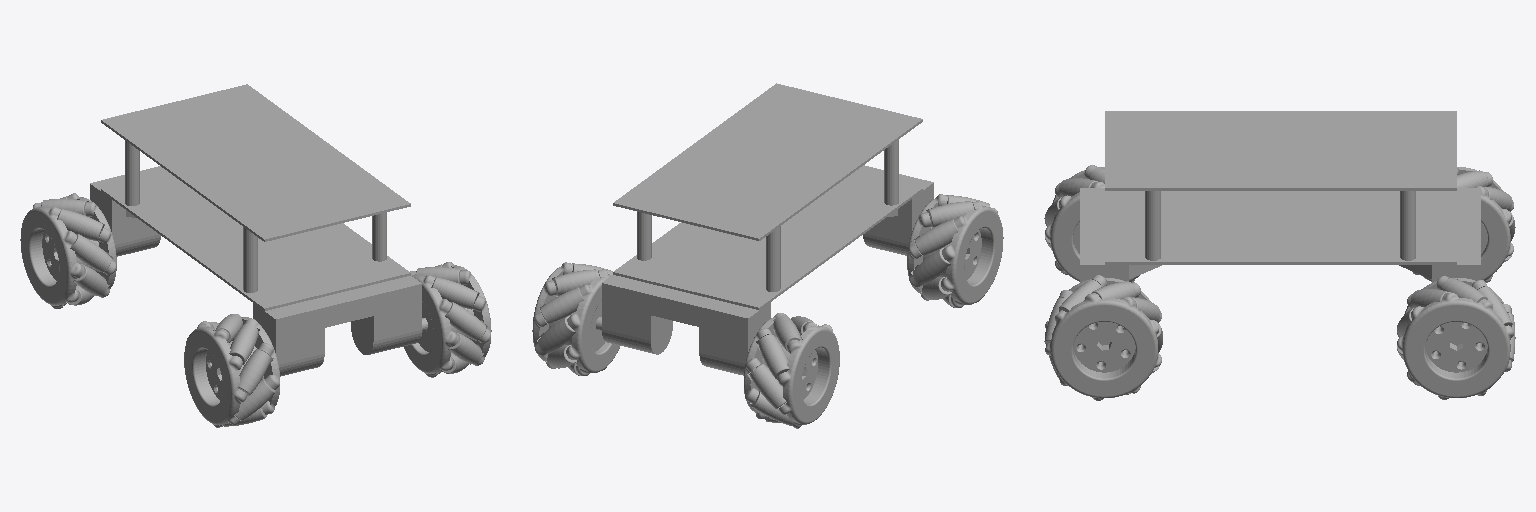
--- What the picture shows (computed from the rendered views, not written in the file) ---
Views: 3 orthographic renders of the robot side by side, from view 1: azimuth 30°, elevation 25°; view 2: azimuth 150°, elevation 25°; view 3: azimuth 270°, elevation 25°.
Model examplo with 42 links and 41 joints (40 continuous, 1 fixed), rooted at base_link, posed every joint at zero.
Visible links, largest first — view 1: chassis_link, front_left_mecanum_link, rear_left_mecanum_link, rear_right_mecanum_link, rear_left_roller_4, rear_right_roller_4, front_left_roller_5, front_left_roller_6, rear_right_roller_3, rear_left_roller_5, rear_left_roller_3, front_left_roller_4 (+1 smaller); view 2: chassis_link, front_left_mecanum_link, rear_left_mecanum_link, front_right_mecanum_link, rear_left_roller_1, front_right_roller_8, front_left_roller_0, front_left_roller_8, front_right_roller_0, rear_left_roller_0, front_right_roller_7, rear_left_roller_2 (+1 smaller); view 3: chassis_link, front_right_mecanum_link, rear_right_mecanum_link, rear_left_mecanum_link, front_left_mecanum_link, front_right_roller_7, rear_right_roller_2.
Link boxes in pixels (x1=…): chassis_link: x1=90, y1=84, x2=427, y2=376; front_left_mecanum_link: x1=20, y1=193, x2=116, y2=308; rear_left_mecanum_link: x1=184, y1=314, x2=279, y2=427; rear_right_mecanum_link: x1=404, y1=262, x2=491, y2=377; rear_left_roller_4: x1=237, y1=349, x2=270, y2=395; rear_right_roller_4: x1=445, y1=302, x2=485, y2=340; front_left_roller_5: x1=70, y1=234, x2=111, y2=271; front_left_roller_6: x1=58, y1=209, x2=102, y2=240; rear_right_roller_3: x1=432, y1=277, x2=477, y2=309; rear_left_roller_5: x1=235, y1=379, x2=274, y2=420; rear_left_roller_3: x1=229, y1=324, x2=258, y2=364; front_left_roller_4: x1=74, y1=264, x2=107, y2=295; chassis_link: x1=596, y1=83, x2=933, y2=375; front_left_mecanum_link: x1=744, y1=313, x2=839, y2=428; rear_left_mecanum_link: x1=907, y1=194, x2=1003, y2=307; front_right_mecanum_link: x1=532, y1=262, x2=619, y2=375; rear_left_roller_1: x1=915, y1=219, x2=959, y2=255; front_right_roller_8: x1=540, y1=287, x2=584, y2=323; front_left_roller_0: x1=749, y1=364, x2=786, y2=408; front_left_roller_8: x1=758, y1=334, x2=789, y2=379; front_right_roller_0: x1=538, y1=316, x2=575, y2=353; rear_left_roller_0: x1=913, y1=248, x2=950, y2=284; front_right_roller_7: x1=553, y1=269, x2=599, y2=295; rear_left_roller_2: x1=928, y1=201, x2=974, y2=227; chassis_link: x1=1080, y1=111, x2=1480, y2=282; front_right_mecanum_link: x1=1397, y1=276, x2=1513, y2=399; rear_right_mecanum_link: x1=1045, y1=275, x2=1161, y2=400; rear_left_mecanum_link: x1=1045, y1=165, x2=1139, y2=282; front_left_mecanum_link: x1=1412, y1=167, x2=1513, y2=282; front_right_roller_7: x1=1441, y1=278, x2=1487, y2=302; rear_right_roller_2: x1=1092, y1=281, x2=1135, y2=299.
Size in the robot's own frame: 0.2661 by 0.3879 by 0.1699 metres.
41 mesh visuals loaded from 4 distinct referenced files (3 binary STL, 1 ASCII STL).

The robot description file, URDF, robot "examplo":
<?xml version="1.0"?>
<!-- =================================================================================== -->
<!-- |    This document was autogenerated by xacro from [local-path]/examplo-ros2/install/robot_description/share/robot_description/urdf/robots/examplo.urdf.xacro | -->
<!-- |    EDITING THIS FILE BY HAND IS NOT RECOMMENDED                                 | -->
<!-- =================================================================================== -->
<robot name="examplo">
  <!-- Specify some standard inertial calculations https://en.wikipedia.org/wiki/List_of_moments_of_inertia -->
  <!-- These make use of xacro's mathematical functionality -->
  <material name="silver">
    <color rgba="0.700 0.700 0.700 1.000" />
  </material>
  <link name="base_link" />
  <link name="chassis_link">
    <inertial>
      <origin rpy="0 0 0" xyz="0 0 -0.0675" />
      <mass value="2.45" />
      <inertia ixx="0.025954687500000004" ixy="0.0" ixz="0.0" iyy="0.0103359375" iyz="0.0" izz="0.028848750000000003" />
    </inertial>
    <visual>
      <origin rpy="0 0 0" xyz="0 0 0" />
      <geometry>
        <mesh filename="package://robot_description/meshes/chassis.stl" scale="0.001 0.001 0.001" />
      </geometry>
      <material name="silver" />
    </visual>
    <collision>
      <origin rpy="0 0 0" xyz="0 0 -0.0675" />
      <geometry>
        <box size="0.18 0.33 0.135" />
      </geometry>
    </collision>
  </link>
  <gazebo reference="chassis">
    <material>Gazebo/Blue</material>
  </gazebo>
  <joint name="chassis_joint" type="fixed">
    <parent link="base_link" />
    <child link="chassis_link" />
    <origin xyz="0 0 0" />
  </joint>
  <link name="front_right_mecanum_link">
    <inertial>
      <origin rpy="0 1.5707963267948966 0" xyz="0 0 0" />
      <mass value="0.136" />
      <inertia ixx="7.117696e-05" ixy="0.0" ixz="0.0" iyy="7.117696e-05" iyz="0.0" izz="0.00010236992" />
    </inertial>
    <visual>
      <origin rpy="0 0 0" xyz="0 0 0" />
      <geometry>
        <mesh filename="package://robot_description/meshes/mec_hub_1.stl" scale="0.001 0.001 0.001" />
      </geometry>
      <material name="silver" />
    </visual>
    <collision>
      <origin rpy="0 0 0" xyz="0 0 0" />
      <geometry>
        <cylinder length="0.042" radius="0.0388" />
      </geometry>
    </collision>
  </link>
  <joint name="front_right_mecanum_joint" type="continuous">
    <origin rpy="0 1.5707963267948966 0" xyz="0.108 0.145 -0.121" />
    <parent link="chassis_link" />
    <child link="front_right_mecanum_link" />
    <axis xyz="0.0 0.0 -1.0" />
  </joint>
  <link name="front_right_roller_0">
    <visual>
      <origin rpy="0 0 0" xyz="0 0 0" />
      <geometry>
        <mesh filename="package://robot_description/meshes/roller.stl" scale="0.001 0.001 0.001" />
      </geometry>
      <material name="silver" />
    </visual>
    <collision>
      <origin rpy="0 0 0" xyz="0 0 0" />
      <geometry>
        <sphere radius="0.0097" />
      </geometry>
    </collision>
    <collision>
      <origin rpy="0 0 0" xyz="0 0 0.00792" />
      <geometry>
        <sphere radius="0.00952" />
      </geometry>
    </collision>
    <collision>
      <origin rpy="0 0 0" xyz="0 0 -0.00792" />
      <geometry>
        <sphere radius="0.00952" />
      </geometry>
    </collision>
    <collision>
      <origin rpy="0 0 0" xyz="0 0 0.01584" />
      <geometry>
        <sphere radius="0.008985" />
      </geometry>
    </collision>
    <collision>
      <origin rpy="0 0 0" xyz="0 0 -0.01584" />
      <geometry>
        <sphere radius="0.008985" />
      </geometry>
    </collision>
  </link>
  <joint name="front_right_roller_0_joint" type="continuous">
    <origin rpy="0.0 0.7853981633974483 0" xyz="0.0 0.0388 0" />
    <parent link="front_right_mecanum_link" />
    <child link="front_right_roller_0" />
    <axis xyz="0.0 0.0 1.0" />
  </joint>
  <link name="front_right_roller_1">
    <visual>
      <origin rpy="0 0 0" xyz="0 0 0" />
      <geometry>
        <mesh filename="package://robot_description/meshes/roller.stl" scale="0.001 0.001 0.001" />
      </geometry>
      <material name="silver" />
    </visual>
    <collision>
      <origin rpy="0 0 0" xyz="0 0 0" />
      <geometry>
        <sphere radius="0.0097" />
      </geometry>
    </collision>
    <collision>
      <origin rpy="0 0 0" xyz="0 0 0.00792" />
      <geometry>
        <sphere radius="0.00952" />
      </geometry>
    </collision>
    <collision>
      <origin rpy="0 0 0" xyz="0 0 -0.00792" />
      <geometry>
        <sphere radius="0.00952" />
      </geometry>
    </collision>
    <collision>
      <origin rpy="0 0 0" xyz="0 0 0.01584" />
      <geometry>
        <sphere radius="0.008985" />
      </geometry>
    </collision>
    <collision>
      <origin rpy="0 0 0" xyz="0 0 -0.01584" />
      <geometry>
        <sphere radius="0.008985" />
      </geometry>
    </collision>
  </link>
  <joint name="front_right_roller_1_joint" type="continuous">
    <origin rpy="0.5048442081024438 0.6016498987064663 0" xyz="0.024940159255837722 0.02972252439301635 0" />
    <parent link="front_right_mecanum_link" />
    <child link="front_right_roller_1" />
    <axis xyz="0.0 0.0 1.0" />
  </joint>
  <link name="front_right_roller_2">
    <visual>
      <origin rpy="0 0 0" xyz="0 0 0" />
      <geometry>
        <mesh filename="package://robot_description/meshes/roller.stl" scale="0.001 0.001 0.001" />
      </geometry>
      <material name="silver" />
    </visual>
    <collision>
      <origin rpy="0 0 0" xyz="0 0 0" />
      <geometry>
        <sphere radius="0.0097" />
      </geometry>
    </collision>
    <collision>
      <origin rpy="0 0 0" xyz="0 0 0.00792" />
      <geometry>
        <sphere radius="0.00952" />
      </geometry>
    </collision>
    <collision>
      <origin rpy="0 0 0" xyz="0 0 -0.00792" />
      <geometry>
        <sphere radius="0.00952" />
      </geometry>
    </collision>
    <collision>
      <origin rpy="0 0 0" xyz="0 0 0.01584" />
      <geometry>
        <sphere radius="0.008985" />
      </geometry>
    </collision>
    <collision>
      <origin rpy="0 0 0" xyz="0 0 -0.01584" />
      <geometry>
        <sphere radius="0.008985" />
      </geometry>
    </collision>
  </link>
  <joint name="front_right_roller_2_joint" type="continuous">
    <origin rpy="0.7734662005153561 0.13638295981692095 0" xyz="0.038210540816873674 0.0067375492934769006 0" />
    <parent link="front_right_mecanum_link" />
    <child link="front_right_roller_2" />
    <axis xyz="0.0 0.0 1.0" />
  </joint>
  <link name="front_right_roller_3">
    <visual>
      <origin rpy="0 0 0" xyz="0 0 0" />
      <geometry>
        <mesh filename="package://robot_description/meshes/roller.stl" scale="0.001 0.001 0.001" />
      </geometry>
      <material name="silver" />
    </visual>
    <collision>
      <origin rpy="0 0 0" xyz="0 0 0" />
      <geometry>
        <sphere radius="0.0097" />
      </geometry>
    </collision>
    <collision>
      <origin rpy="0 0 0" xyz="0 0 0.00792" />
      <geometry>
        <sphere radius="0.00952" />
      </geometry>
    </collision>
    <collision>
      <origin rpy="0 0 0" xyz="0 0 -0.00792" />
      <geometry>
        <sphere radius="0.00952" />
      </geometry>
    </collision>
    <collision>
      <origin rpy="0 0 0" xyz="0 0 0.01584" />
      <geometry>
        <sphere radius="0.008985" />
      </geometry>
    </collision>
    <collision>
      <origin rpy="0 0 0" xyz="0 0 -0.01584" />
      <geometry>
        <sphere radius="0.008985" />
      </geometry>
    </collision>
  </link>
  <joint name="front_right_roller_3_joint" type="continuous">
    <origin rpy="0.6801747615878317 -0.392699081698724 0" xyz="0.03360178566683622 -0.019399999999999994 0" />
    <parent link="front_right_mecanum_link" />
    <child link="front_right_roller_3" />
    <axis xyz="0.0 0.0 1.0" />
  </joint>
  <link name="front_right_roller_4">
    <visual>
      <origin rpy="0 0 0" xyz="0 0 0" />
      <geometry>
        <mesh filename="package://robot_description/meshes/roller.stl" scale="0.001 0.001 0.001" />
      </geometry>
      <material name="silver" />
    </visual>
    <collision>
      <origin rpy="0 0 0" xyz="0 0 0" />
      <geometry>
        <sphere radius="0.0097" />
      </geometry>
    </collision>
    <collision>
      <origin rpy="0 0 0" xyz="0 0 0.00792" />
      <geometry>
        <sphere radius="0.00952" />
      </geometry>
    </collision>
    <collision>
      <origin rpy="0 0 0" xyz="0 0 -0.00792" />
      <geometry>
        <sphere radius="0.00952" />
      </geometry>
    </collision>
    <collision>
      <origin rpy="0 0 0" xyz="0 0 0.01584" />
      <geometry>
        <sphere radius="0.008985" />
      </geometry>
    </collision>
    <collision>
      <origin rpy="0 0 0" xyz="0 0 -0.01584" />
      <geometry>
        <sphere radius="0.008985" />
      </geometry>
    </collision>
  </link>
  <joint name="front_right_roller_4_joint" type="continuous">
    <origin rpy="0.26862199241291235 -0.7380328585233872 0" xyz="0.013270381561035953 -0.03646007368649325 0" />
    <parent link="front_right_mecanum_link" />
    <child link="front_right_roller_4" />
    <axis xyz="0.0 0.0 1.0" />
  </joint>
  <link name="front_right_roller_5">
    <visual>
      <origin rpy="0 0 0" xyz="0 0 0" />
      <geometry>
        <mesh filename="package://robot_description/meshes/roller.stl" scale="0.001 0.001 0.001" />
      </geometry>
      <material name="silver" />
    </visual>
    <collision>
      <origin rpy="0 0 0" xyz="0 0 0" />
      <geometry>
        <sphere radius="0.0097" />
      </geometry>
    </collision>
    <collision>
      <origin rpy="0 0 0" xyz="0 0 0.00792" />
      <geometry>
        <sphere radius="0.00952" />
      </geometry>
    </collision>
    <collision>
      <origin rpy="0 0 0" xyz="0 0 -0.00792" />
      <geometry>
        <sphere radius="0.00952" />
      </geometry>
    </collision>
    <collision>
      <origin rpy="0 0 0" xyz="0 0 0.01584" />
      <geometry>
        <sphere radius="0.008985" />
      </geometry>
    </collision>
    <collision>
      <origin rpy="0 0 0" xyz="0 0 -0.01584" />
      <geometry>
        <sphere radius="0.008985" />
      </geometry>
    </collision>
  </link>
  <joint name="front_right_roller_5_joint" type="continuous">
    <origin rpy="-0.2686219924129122 -0.7380328585233873 0" xyz="-0.013270381561035945 -0.03646007368649325 0" />
    <parent link="front_right_mecanum_link" />
    <child link="front_right_roller_5" />
    <axis xyz="0.0 0.0 1.0" />
  </joint>
  <link name="front_right_roller_6">
    <visual>
      <origin rpy="0 0 0" xyz="0 0 0" />
      <geometry>
        <mesh filename="package://robot_description/meshes/roller.stl" scale="0.001 0.001 0.001" />
      </geometry>
      <material name="silver" />
    </visual>
    <collision>
      <origin rpy="0 0 0" xyz="0 0 0" />
      <geometry>
        <sphere radius="0.0097" />
      </geometry>
    </collision>
    <collision>
      <origin rpy="0 0 0" xyz="0 0 0.00792" />
      <geometry>
        <sphere radius="0.00952" />
      </geometry>
    </collision>
    <collision>
      <origin rpy="0 0 0" xyz="0 0 -0.00792" />
      <geometry>
        <sphere radius="0.00952" />
      </geometry>
    </collision>
    <collision>
      <origin rpy="0 0 0" xyz="0 0 0.01584" />
      <geometry>
        <sphere radius="0.008985" />
      </geometry>
    </collision>
    <collision>
      <origin rpy="0 0 0" xyz="0 0 -0.01584" />
      <geometry>
        <sphere radius="0.008985" />
      </geometry>
    </collision>
  </link>
  <joint name="front_right_roller_6_joint" type="continuous">
    <origin rpy="-0.6801747615878314 -0.3926990816987245 0" xyz="-0.03360178566683621 -0.019400000000000018 0" />
    <parent link="front_right_mecanum_link" />
    <child link="front_right_roller_6" />
    <axis xyz="0.0 0.0 1.0" />
  </joint>
  <link name="front_right_roller_7">
    <visual>
      <origin rpy="0 0 0" xyz="0 0 0" />
      <geometry>
        <mesh filename="package://robot_description/meshes/roller.stl" scale="0.001 0.001 0.001" />
      </geometry>
      <material name="silver" />
    </visual>
    <collision>
      <origin rpy="0 0 0" xyz="0 0 0" />
      <geometry>
        <sphere radius="0.0097" />
      </geometry>
    </collision>
    <collision>
      <origin rpy="0 0 0" xyz="0 0 0.00792" />
      <geometry>
        <sphere radius="0.00952" />
      </geometry>
    </collision>
    <collision>
      <origin rpy="0 0 0" xyz="0 0 -0.00792" />
      <geometry>
        <sphere radius="0.00952" />
      </geometry>
    </collision>
    <collision>
      <origin rpy="0 0 0" xyz="0 0 0.01584" />
      <geometry>
        <sphere radius="0.008985" />
      </geometry>
    </collision>
    <collision>
      <origin rpy="0 0 0" xyz="0 0 -0.01584" />
      <geometry>
        <sphere radius="0.008985" />
      </geometry>
    </collision>
  </link>
  <joint name="front_right_roller_7_joint" type="continuous">
    <origin rpy="-0.7734662005153561 0.13638295981692058 0" xyz="-0.038210540816873674 0.006737549293476883 0" />
    <parent link="front_right_mecanum_link" />
    <child link="front_right_roller_7" />
    <axis xyz="0.0 0.0 1.0" />
  </joint>
  <link name="front_right_roller_8">
    <visual>
      <origin rpy="0 0 0" xyz="0 0 0" />
      <geometry>
        <mesh filename="package://robot_description/meshes/roller.stl" scale="0.001 0.001 0.001" />
      </geometry>
      <material name="silver" />
    </visual>
    <collision>
      <origin rpy="0 0 0" xyz="0 0 0" />
      <geometry>
        <sphere radius="0.0097" />
      </geometry>
    </collision>
    <collision>
      <origin rpy="0 0 0" xyz="0 0 0.00792" />
      <geometry>
        <sphere radius="0.00952" />
      </geometry>
    </collision>
    <collision>
      <origin rpy="0 0 0" xyz="0 0 -0.00792" />
      <geometry>
        <sphere radius="0.00952" />
      </geometry>
    </collision>
    <collision>
      <origin rpy="0 0 0" xyz="0 0 0.01584" />
      <geometry>
        <sphere radius="0.008985" />
      </geometry>
    </collision>
    <collision>
      <origin rpy="0 0 0" xyz="0 0 -0.01584" />
      <geometry>
        <sphere radius="0.008985" />
      </geometry>
    </collision>
  </link>
  <joint name="front_right_roller_8_joint" type="continuous">
    <origin rpy="-0.504844208102444 0.6016498987064662 0" xyz="-0.024940159255837736 0.02972252439301634 0" />
    <parent link="front_right_mecanum_link" />
    <child link="front_right_roller_8" />
    <axis xyz="0.0 0.0 1.0" />
  </joint>
  <link name="rear_left_mecanum_link">
    <inertial>
      <origin rpy="0 1.5707963267948966 0" xyz="0 0 0" />
      <mass value="0.136" />
      <inertia ixx="7.117696e-05" ixy="0.0" ixz="0.0" iyy="7.117696e-05" iyz="0.0" izz="0.00010236992" />
    </inertial>
    <visual>
      <origin rpy="0 0 0" xyz="0 0 0" />
      <geometry>
        <mesh filename="package://robot_description/meshes/mec_hub_1.stl" scale="0.001 0.001 0.001" />
      </geometry>
      <material name="silver" />
    </visual>
    <collision>
      <origin rpy="0 0 0" xyz="0 0 0" />
      <geometry>
        <cylinder length="0.042" radius="0.0388" />
      </geometry>
    </collision>
  </link>
  <joint name="rear_left_mecanum_joint" type="continuous">
    <origin rpy="0 -1.5707963267948966 0" xyz="-0.108 -0.145 -0.121" />
    <parent link="chassis_link" />
    <child link="rear_left_mecanum_link" />
    <axis xyz="0.0 0.0 1.0" />
  </joint>
  <link name="rear_left_roller_0">
    <visual>
      <origin rpy="0 0 0" xyz="0 0 0" />
      <geometry>
        <mesh filename="package://robot_description/meshes/roller.stl" scale="0.001 0.001 0.001" />
      </geometry>
      <material name="silver" />
    </visual>
    <collision>
      <origin rpy="0 0 0" xyz="0 0 0" />
      <geometry>
        <sphere radius="0.0097" />
      </geometry>
    </collision>
    <collision>
      <origin rpy="0 0 0" xyz="0 0 0.00792" />
      <geometry>
        <sphere radius="0.00952" />
      </geometry>
    </collision>
    <collision>
      <origin rpy="0 0 0" xyz="0 0 -0.00792" />
      <geometry>
        <sphere radius="0.00952" />
      </geometry>
    </collision>
    <collision>
      <origin rpy="0 0 0" xyz="0 0 0.01584" />
      <geometry>
        <sphere radius="0.008985" />
      </geometry>
    </collision>
    <collision>
      <origin rpy="0 0 0" xyz="0 0 -0.01584" />
      <geometry>
        <sphere radius="0.008985" />
      </geometry>
    </collision>
  </link>
  <joint name="rear_left_roller_0_joint" type="continuous">
    <origin rpy="0.0 0.7853981633974483 0" xyz="0.0 0.0388 0" />
    <parent link="rear_left_mecanum_link" />
    <child link="rear_left_roller_0" />
    <axis xyz="0.0 0.0 1.0" />
  </joint>
  <link name="rear_left_roller_1">
    <visual>
      <origin rpy="0 0 0" xyz="0 0 0" />
      <geometry>
        <mesh filename="package://robot_description/meshes/roller.stl" scale="0.001 0.001 0.001" />
      </geometry>
      <material name="silver" />
    </visual>
    <collision>
      <origin rpy="0 0 0" xyz="0 0 0" />
      <geometry>
        <sphere radius="0.0097" />
      </geometry>
    </collision>
    <collision>
      <origin rpy="0 0 0" xyz="0 0 0.00792" />
      <geometry>
        <sphere radius="0.00952" />
      </geometry>
    </collision>
    <collision>
      <origin rpy="0 0 0" xyz="0 0 -0.00792" />
      <geometry>
        <sphere radius="0.00952" />
      </geometry>
    </collision>
    <collision>
      <origin rpy="0 0 0" xyz="0 0 0.01584" />
      <geometry>
        <sphere radius="0.008985" />
      </geometry>
    </collision>
    <collision>
      <origin rpy="0 0 0" xyz="0 0 -0.01584" />
      <geometry>
        <sphere radius="0.008985" />
      </geometry>
    </collision>
  </link>
  <joint name="rear_left_roller_1_joint" type="continuous">
    <origin rpy="0.5048442081024438 0.6016498987064663 0" xyz="0.024940159255837722 0.02972252439301635 0" />
    <parent link="rear_left_mecanum_link" />
    <child link="rear_left_roller_1" />
    <axis xyz="0.0 0.0 1.0" />
  </joint>
  <link name="rear_left_roller_2">
    <visual>
      <origin rpy="0 0 0" xyz="0 0 0" />
      <geometry>
        <mesh filename="package://robot_description/meshes/roller.stl" scale="0.001 0.001 0.001" />
      </geometry>
      <material name="silver" />
    </visual>
    <collision>
      <origin rpy="0 0 0" xyz="0 0 0" />
      <geometry>
        <sphere radius="0.0097" />
      </geometry>
    </collision>
    <collision>
      <origin rpy="0 0 0" xyz="0 0 0.00792" />
      <geometry>
        <sphere radius="0.00952" />
      </geometry>
    </collision>
    <collision>
      <origin rpy="0 0 0" xyz="0 0 -0.00792" />
      <geometry>
        <sphere radius="0.00952" />
      </geometry>
    </collision>
    <collision>
      <origin rpy="0 0 0" xyz="0 0 0.01584" />
      <geometry>
        <sphere radius="0.008985" />
      </geometry>
    </collision>
    <collision>
      <origin rpy="0 0 0" xyz="0 0 -0.01584" />
      <geometry>
        <sphere radius="0.008985" />
      </geometry>
    </collision>
  </link>
  <joint name="rear_left_roller_2_joint" type="continuous">
    <origin rpy="0.7734662005153561 0.13638295981692095 0" xyz="0.038210540816873674 0.0067375492934769006 0" />
    <parent link="rear_left_mecanum_link" />
    <child link="rear_left_roller_2" />
    <axis xyz="0.0 0.0 1.0" />
  </joint>
  <link name="rear_left_roller_3">
    <visual>
      <origin rpy="0 0 0" xyz="0 0 0" />
      <geometry>
        <mesh filename="package://robot_description/meshes/roller.stl" scale="0.001 0.001 0.001" />
      </geometry>
      <material name="silver" />
    </visual>
    <collision>
      <origin rpy="0 0 0" xyz="0 0 0" />
      <geometry>
        <sphere radius="0.0097" />
      </geometry>
    </collision>
    <collision>
      <origin rpy="0 0 0" xyz="0 0 0.00792" />
      <geometry>
        <sphere radius="0.00952" />
      </geometry>
    </collision>
    <collision>
      <origin rpy="0 0 0" xyz="0 0 -0.00792" />
      <geometry>
        <sphere radius="0.00952" />
      </geometry>
    </collision>
    <collision>
      <origin rpy="0 0 0" xyz="0 0 0.01584" />
      <geometry>
        <sphere radius="0.008985" />
      </geometry>
    </collision>
    <collision>
      <origin rpy="0 0 0" xyz="0 0 -0.01584" />
      <geometry>
        <sphere radius="0.008985" />
      </geometry>
    </collision>
  </link>
  <joint name="rear_left_roller_3_joint" type="continuous">
    <origin rpy="0.6801747615878317 -0.392699081698724 0" xyz="0.03360178566683622 -0.019399999999999994 0" />
    <parent link="rear_left_mecanum_link" />
    <child link="rear_left_roller_3" />
    <axis xyz="0.0 0.0 1.0" />
  </joint>
  <link name="rear_left_roller_4">
    <visual>
      <origin rpy="0 0 0" xyz="0 0 0" />
      <geometry>
        <mesh filename="package://robot_description/meshes/roller.stl" scale="0.001 0.001 0.001" />
      </geometry>
      <material name="silver" />
    </visual>
    <collision>
      <origin rpy="0 0 0" xyz="0 0 0" />
      <geometry>
        <sphere radius="0.0097" />
      </geometry>
    </collision>
    <collision>
      <origin rpy="0 0 0" xyz="0 0 0.00792" />
      <geometry>
        <sphere radius="0.00952" />
      </geometry>
    </collision>
    <collision>
      <origin rpy="0 0 0" xyz="0 0 -0.00792" />
      <geometry>
        <sphere radius="0.00952" />
      </geometry>
    </collision>
    <collision>
      <origin rpy="0 0 0" xyz="0 0 0.01584" />
      <geometry>
        <sphere radius="0.008985" />
      </geometry>
    </collision>
    <collision>
      <origin rpy="0 0 0" xyz="0 0 -0.01584" />
      <geometry>
        <sphere radius="0.008985" />
      </geometry>
    </collision>
  </link>
  <joint name="rear_left_roller_4_joint" type="continuous">
    <origin rpy="0.26862199241291235 -0.7380328585233872 0" xyz="0.013270381561035953 -0.03646007368649325 0" />
    <parent link="rear_left_mecanum_link" />
    <child link="rear_left_roller_4" />
    <axis xyz="0.0 0.0 1.0" />
  </joint>
  <link name="rear_left_roller_5">
    <visual>
      <origin rpy="0 0 0" xyz="0 0 0" />
      <geometry>
        <mesh filename="package://robot_description/meshes/roller.stl" scale="0.001 0.001 0.001" />
      </geometry>
      <material name="silver" />
    </visual>
    <collision>
      <origin rpy="0 0 0" xyz="0 0 0" />
      <geometry>
        <sphere radius="0.0097" />
      </geometry>
    </collision>
    <collision>
      <origin rpy="0 0 0" xyz="0 0 0.00792" />
      <geometry>
        <sphere radius="0.00952" />
      </geometry>
    </collision>
    <collision>
      <origin rpy="0 0 0" xyz="0 0 -0.00792" />
      <geometry>
        <sphere radius="0.00952" />
      </geometry>
    </collision>
    <collision>
      <origin rpy="0 0 0" xyz="0 0 0.01584" />
      <geometry>
        <sphere radius="0.008985" />
      </geometry>
    </collision>
    <collision>
      <origin rpy="0 0 0" xyz="0 0 -0.01584" />
      <geometry>
        <sphere radius="0.008985" />
      </geometry>
    </collision>
  </link>
  <joint name="rear_left_roller_5_joint" type="continuous">
    <origin rpy="-0.2686219924129122 -0.7380328585233873 0" xyz="-0.013270381561035945 -0.03646007368649325 0" />
    <parent link="rear_left_mecanum_link" />
    <child link="rear_left_roller_5" />
    <axis xyz="0.0 0.0 1.0" />
  </joint>
  <link name="rear_left_roller_6">
    <visual>
      <origin rpy="0 0 0" xyz="0 0 0" />
      <geometry>
        <mesh filename="package://robot_description/meshes/roller.stl" scale="0.001 0.001 0.001" />
      </geometry>
      <material name="silver" />
    </visual>
    <collision>
      <origin rpy="0 0 0" xyz="0 0 0" />
      <geometry>
        <sphere radius="0.0097" />
      </geometry>
    </collision>
    <collision>
      <origin rpy="0 0 0" xyz="0 0 0.00792" />
      <geometry>
        <sphere radius="0.00952" />
      </geometry>
    </collision>
    <collision>
      <origin rpy="0 0 0" xyz="0 0 -0.00792" />
      <geometry>
        <sphere radius="0.00952" />
      </geometry>
    </collision>
    <collision>
      <origin rpy="0 0 0" xyz="0 0 0.01584" />
      <geometry>
        <sphere radius="0.008985" />
      </geometry>
    </collision>
    <collision>
      <origin rpy="0 0 0" xyz="0 0 -0.01584" />
      <geometry>
        <sphere radius="0.008985" />
      </geometry>
    </collision>
  </link>
  <joint name="rear_left_roller_6_joint" type="continuous">
    <origin rpy="-0.6801747615878314 -0.3926990816987245 0" xyz="-0.03360178566683621 -0.019400000000000018 0" />
    <parent link="rear_left_mecanum_link" />
    <child link="rear_left_roller_6" />
    <axis xyz="0.0 0.0 1.0" />
  </joint>
  <link name="rear_left_roller_7">
    <visual>
      <origin rpy="0 0 0" xyz="0 0 0" />
      <geometry>
        <mesh filename="package://robot_description/meshes/roller.stl" scale="0.001 0.001 0.001" />
      </geometry>
      <material name="silver" />
    </visual>
    <collision>
      <origin rpy="0 0 0" xyz="0 0 0" />
      <geometry>
        <sphere radius="0.0097" />
      </geometry>
    </collision>
    <collision>
      <origin rpy="0 0 0" xyz="0 0 0.00792" />
      <geometry>
        <sphere radius="0.00952" />
      </geometry>
    </collision>
    <collision>
      <origin rpy="0 0 0" xyz="0 0 -0.00792" />
      <geometry>
        <sphere radius="0.00952" />
      </geometry>
    </collision>
    <collision>
      <origin rpy="0 0 0" xyz="0 0 0.01584" />
      <geometry>
        <sphere radius="0.008985" />
      </geometry>
    </collision>
    <collision>
      <origin rpy="0 0 0" xyz="0 0 -0.01584" />
      <geometry>
        <sphere radius="0.008985" />
      </geometry>
    </collision>
  </link>
  <joint name="rear_left_roller_7_joint" type="continuous">
    <origin rpy="-0.7734662005153561 0.13638295981692058 0" xyz="-0.038210540816873674 0.006737549293476883 0" />
    <parent link="rear_left_mecanum_link" />
    <child link="rear_left_roller_7" />
    <axis xyz="0.0 0.0 1.0" />
  </joint>
  <link name="rear_left_roller_8">
    <visual>
      <origin rpy="0 0 0" xyz="0 0 0" />
      <geometry>
        <mesh filename="package://robot_description/meshes/roller.stl" scale="0.001 0.001 0.001" />
      </geometry>
      <material name="silver" />
    </visual>
    <collision>
      <origin rpy="0 0 0" xyz="0 0 0" />
      <geometry>
        <sphere radius="0.0097" />
      </geometry>
    </collision>
    <collision>
      <origin rpy="0 0 0" xyz="0 0 0.00792" />
      <geometry>
        <sphere radius="0.00952" />
      </geometry>
    </collision>
    <collision>
      <origin rpy="0 0 0" xyz="0 0 -0.00792" />
      <geometry>
        <sphere radius="0.00952" />
      </geometry>
    </collision>
    <collision>
      <origin rpy="0 0 0" xyz="0 0 0.01584" />
      <geometry>
        <sphere radius="0.008985" />
      </geometry>
    </collision>
    <collision>
      <origin rpy="0 0 0" xyz="0 0 -0.01584" />
      <geometry>
        <sphere radius="0.008985" />
      </geometry>
    </collision>
  </link>
  <joint name="rear_left_roller_8_joint" type="continuous">
    <origin rpy="-0.504844208102444 0.6016498987064662 0" xyz="-0.024940159255837736 0.02972252439301634 0" />
    <parent link="rear_left_mecanum_link" />
    <child link="rear_left_roller_8" />
    <axis xyz="0.0 0.0 1.0" />
  </joint>
  <link name="front_left_mecanum_link">
    <inertial>
      <origin rpy="0 1.5707963267948966 0" xyz="0 0 0" />
      <mass value="0.136" />
      <inertia ixx="7.117696e-05" ixy="0.0" ixz="0.0" iyy="7.117696e-05" iyz="0.0" izz="0.00010236992" />
    </inertial>
    <visual>
      <origin rpy="0 0 0" xyz="0 0 0" />
      <geometry>
        <mesh filename="package://robot_description/meshes/mec_hub_2.stl" scale="0.001 0.001 0.001" />
      </geometry>
      <material name="silver" />
    </visual>
    <collision>
      <origin rpy="0 0 0" xyz="0 0 0" />
      <geometry>
        <cylinder length="0.042" radius="0.0388" />
      </geometry>
    </collision>
  </link>
  <joint name="front_left_mecanum_joint" type="continuous">
    <origin rpy="0 1.5707963267948966 0" xyz="-0.108 0.145 -0.121" />
    <parent link="chassis_link" />
    <child link="front_left_mecanum_link" />
    <axis xyz="0.0 0.0 -1.0" />
  </joint>
  <link name="front_left_roller_0">
    <visual>
      <origin rpy="0 0 0" xyz="0 0 0" />
      <geometry>
        <mesh filename="package://robot_description/meshes/roller.stl" scale="0.001 0.001 0.001" />
      </geometry>
      <material name="silver" />
    </visual>
    <collision>
      <origin rpy="0 0 0" xyz="0 0 0" />
      <geometry>
        <sphere radius="0.0097" />
      </geometry>
    </collision>
    <collision>
      <origin rpy="0 0 0" xyz="0 0 0.00792" />
      <geometry>
        <sphere radius="0.00952" />
      </geometry>
    </collision>
    <collision>
      <origin rpy="0 0 0" xyz="0 0 -0.00792" />
      <geometry>
        <sphere radius="0.00952" />
      </geometry>
    </collision>
    <collision>
      <origin rpy="0 0 0" xyz="0 0 0.01584" />
      <geometry>
        <sphere radius="0.008985" />
      </geometry>
    </collision>
    <collision>
      <origin rpy="0 0 0" xyz="0 0 -0.01584" />
      <geometry>
        <sphere radius="0.008985" />
      </geometry>
    </collision>
  </link>
  <joint name="front_left_roller_0_joint" type="continuous">
    <origin rpy="-0.0 -0.7853981633974483 0" xyz="0.0 0.0388 0" />
    <parent link="front_left_mecanum_link" />
    <child link="front_left_roller_0" />
    <axis xyz="0.0 0.0 1.0" />
  </joint>
  <link name="front_left_roller_1">
    <visual>
      <origin rpy="0 0 0" xyz="0 0 0" />
      <geometry>
        <mesh filename="package://robot_description/meshes/roller.stl" scale="0.001 0.001 0.001" />
      </geometry>
      <material name="silver" />
    </visual>
    <collision>
      <origin rpy="0 0 0" xyz="0 0 0" />
      <geometry>
        <sphere radius="0.0097" />
      </geometry>
    </collision>
    <collision>
      <origin rpy="0 0 0" xyz="0 0 0.00792" />
      <geometry>
        <sphere radius="0.00952" />
      </geometry>
    </collision>
    <collision>
      <origin rpy="0 0 0" xyz="0 0 -0.00792" />
      <geometry>
        <sphere radius="0.00952" />
      </geometry>
    </collision>
    <collision>
      <origin rpy="0 0 0" xyz="0 0 0.01584" />
      <geometry>
        <sphere radius="0.008985" />
      </geometry>
    </collision>
    <collision>
      <origin rpy="0 0 0" xyz="0 0 -0.01584" />
      <geometry>
        <sphere radius="0.008985" />
      </geometry>
    </collision>
  </link>
  <joint name="front_left_roller_1_joint" type="continuous">
    <origin rpy="-0.5048442081024438 -0.6016498987064663 0" xyz="0.024940159255837722 0.02972252439301635 0" />
    <parent link="front_left_mecanum_link" />
    <child link="front_left_roller_1" />
    <axis xyz="0.0 0.0 1.0" />
  </joint>
  <link name="front_left_roller_2">
    <visual>
      <origin rpy="0 0 0" xyz="0 0 0" />
      <geometry>
        <mesh filename="package://robot_description/meshes/roller.stl" scale="0.001 0.001 0.001" />
      </geometry>
      <material name="silver" />
    </visual>
    <collision>
      <origin rpy="0 0 0" xyz="0 0 0" />
      <geometry>
        <sphere radius="0.0097" />
      </geometry>
    </collision>
    <collision>
      <origin rpy="0 0 0" xyz="0 0 0.00792" />
      <geometry>
        <sphere radius="0.00952" />
      </geometry>
    </collision>
    <collision>
      <origin rpy="0 0 0" xyz="0 0 -0.00792" />
      <geometry>
        <sphere radius="0.00952" />
      </geometry>
    </collision>
    <collision>
      <origin rpy="0 0 0" xyz="0 0 0.01584" />
      <geometry>
        <sphere radius="0.008985" />
      </geometry>
    </collision>
    <collision>
      <origin rpy="0 0 0" xyz="0 0 -0.01584" />
      <geometry>
        <sphere radius="0.008985" />
      </geometry>
    </collision>
  </link>
  <joint name="front_left_roller_2_joint" type="continuous">
    <origin rpy="-0.7734662005153561 -0.13638295981692095 0" xyz="0.038210540816873674 0.0067375492934769006 0" />
    <parent link="front_left_mecanum_link" />
    <child link="front_left_roller_2" />
    <axis xyz="0.0 0.0 1.0" />
  </joint>
  <link name="front_left_roller_3">
    <visual>
      <origin rpy="0 0 0" xyz="0 0 0" />
      <geometry>
        <mesh filename="package://robot_description/meshes/roller.stl" scale="0.001 0.001 0.001" />
      </geometry>
      <material name="silver" />
    </visual>
    <collision>
      <origin rpy="0 0 0" xyz="0 0 0" />
      <geometry>
        <sphere radius="0.0097" />
      </geometry>
    </collision>
    <collision>
      <origin rpy="0 0 0" xyz="0 0 0.00792" />
      <geometry>
        <sphere radius="0.00952" />
      </geometry>
    </collision>
    <collision>
      <origin rpy="0 0 0" xyz="0 0 -0.00792" />
      <geometry>
        <sphere radius="0.00952" />
      </geometry>
    </collision>
    <collision>
      <origin rpy="0 0 0" xyz="0 0 0.01584" />
      <geometry>
        <sphere radius="0.008985" />
      </geometry>
    </collision>
    <collision>
      <origin rpy="0 0 0" xyz="0 0 -0.01584" />
      <geometry>
        <sphere radius="0.008985" />
      </geometry>
    </collision>
  </link>
  <joint name="front_left_roller_3_joint" type="continuous">
    <origin rpy="-0.6801747615878317 0.392699081698724 0" xyz="0.03360178566683622 -0.019399999999999994 0" />
    <parent link="front_left_mecanum_link" />
    <child link="front_left_roller_3" />
    <axis xyz="0.0 0.0 1.0" />
  </joint>
  <link name="front_left_roller_4">
    <visual>
      <origin rpy="0 0 0" xyz="0 0 0" />
      <geometry>
        <mesh filename="package://robot_description/meshes/roller.stl" scale="0.001 0.001 0.001" />
      </geometry>
      <material name="silver" />
    </visual>
    <collision>
      <origin rpy="0 0 0" xyz="0 0 0" />
      <geometry>
        <sphere radius="0.0097" />
      </geometry>
    </collision>
    <collision>
      <origin rpy="0 0 0" xyz="0 0 0.00792" />
      <geometry>
        <sphere radius="0.00952" />
      </geometry>
    </collision>
    <collision>
      <origin rpy="0 0 0" xyz="0 0 -0.00792" />
      <geometry>
        <sphere radius="0.00952" />
      </geometry>
    </collision>
    <collision>
      <origin rpy="0 0 0" xyz="0 0 0.01584" />
      <geometry>
        <sphere radius="0.008985" />
      </geometry>
    </collision>
    <collision>
      <origin rpy="0 0 0" xyz="0 0 -0.01584" />
      <geometry>
        <sphere radius="0.008985" />
      </geometry>
    </collision>
  </link>
  <joint name="front_left_roller_4_joint" type="continuous">
    <origin rpy="-0.26862199241291235 0.7380328585233872 0" xyz="0.013270381561035953 -0.03646007368649325 0" />
    <parent link="front_left_mecanum_link" />
    <child link="front_left_roller_4" />
    <axis xyz="0.0 0.0 1.0" />
  </joint>
  <link name="front_left_roller_5">
    <visual>
      <origin rpy="0 0 0" xyz="0 0 0" />
      <geometry>
        <mesh filename="package://robot_description/meshes/roller.stl" scale="0.001 0.001 0.001" />
      </geometry>
      <material name="silver" />
    </visual>
    <collision>
      <origin rpy="0 0 0" xyz="0 0 0" />
      <geometry>
        <sphere radius="0.0097" />
      </geometry>
    </collision>
    <collision>
      <origin rpy="0 0 0" xyz="0 0 0.00792" />
      <geometry>
        <sphere radius="0.00952" />
      </geometry>
    </collision>
    <collision>
      <origin rpy="0 0 0" xyz="0 0 -0.00792" />
      <geometry>
        <sphere radius="0.00952" />
      </geometry>
    </collision>
    <collision>
      <origin rpy="0 0 0" xyz="0 0 0.01584" />
      <geometry>
        <sphere radius="0.008985" />
      </geometry>
    </collision>
    <collision>
      <origin rpy="0 0 0" xyz="0 0 -0.01584" />
      <geometry>
        <sphere radius="0.008985" />
      </geometry>
    </collision>
  </link>
  <joint name="front_left_roller_5_joint" type="continuous">
    <origin rpy="0.2686219924129122 0.7380328585233873 0" xyz="-0.013270381561035945 -0.03646007368649325 0" />
    <parent link="front_left_mecanum_link" />
    <child link="front_left_roller_5" />
    <axis xyz="0.0 0.0 1.0" />
  </joint>
  <link name="front_left_roller_6">
    <visual>
      <origin rpy="0 0 0" xyz="0 0 0" />
      <geometry>
        <mesh filename="package://robot_description/meshes/roller.stl" scale="0.001 0.001 0.001" />
      </geometry>
      <material name="silver" />
    </visual>
    <collision>
      <origin rpy="0 0 0" xyz="0 0 0" />
      <geometry>
        <sphere radius="0.0097" />
      </geometry>
    </collision>
    <collision>
      <origin rpy="0 0 0" xyz="0 0 0.00792" />
      <geometry>
        <sphere radius="0.00952" />
      </geometry>
    </collision>
    <collision>
      <origin rpy="0 0 0" xyz="0 0 -0.00792" />
      <geometry>
        <sphere radius="0.00952" />
      </geometry>
    </collision>
    <collision>
      <origin rpy="0 0 0" xyz="0 0 0.01584" />
      <geometry>
        <sphere radius="0.008985" />
      </geometry>
    </collision>
    <collision>
      <origin rpy="0 0 0" xyz="0 0 -0.01584" />
      <geometry>
        <sphere radius="0.008985" />
      </geometry>
    </collision>
  </link>
  <joint name="front_left_roller_6_joint" type="continuous">
    <origin rpy="0.6801747615878314 0.3926990816987245 0" xyz="-0.03360178566683621 -0.019400000000000018 0" />
    <parent link="front_left_mecanum_link" />
    <child link="front_left_roller_6" />
    <axis xyz="0.0 0.0 1.0" />
  </joint>
  <link name="front_left_roller_7">
    <visual>
      <origin rpy="0 0 0" xyz="0 0 0" />
      <geometry>
        <mesh filename="package://robot_description/meshes/roller.stl" scale="0.001 0.001 0.001" />
      </geometry>
      <material name="silver" />
    </visual>
    <collision>
      <origin rpy="0 0 0" xyz="0 0 0" />
      <geometry>
        <sphere radius="0.0097" />
      </geometry>
    </collision>
    <collision>
      <origin rpy="0 0 0" xyz="0 0 0.00792" />
      <geometry>
        <sphere radius="0.00952" />
      </geometry>
    </collision>
    <collision>
      <origin rpy="0 0 0" xyz="0 0 -0.00792" />
      <geometry>
        <sphere radius="0.00952" />
      </geometry>
    </collision>
    <collision>
      <origin rpy="0 0 0" xyz="0 0 0.01584" />
      <geometry>
        <sphere radius="0.008985" />
      </geometry>
    </collision>
    <collision>
      <origin rpy="0 0 0" xyz="0 0 -0.01584" />
      <geometry>
        <sphere radius="0.008985" />
      </geometry>
    </collision>
  </link>
  <joint name="front_left_roller_7_joint" type="continuous">
    <origin rpy="0.7734662005153561 -0.13638295981692058 0" xyz="-0.038210540816873674 0.006737549293476883 0" />
    <parent link="front_left_mecanum_link" />
    <child link="front_left_roller_7" />
    <axis xyz="0.0 0.0 1.0" />
  </joint>
  <link name="front_left_roller_8">
    <visual>
      <origin rpy="0 0 0" xyz="0 0 0" />
      <geometry>
        <mesh filename="package://robot_description/meshes/roller.stl" scale="0.001 0.001 0.001" />
      </geometry>
      <material name="silver" />
    </visual>
    <collision>
      <origin rpy="0 0 0" xyz="0 0 0" />
      <geometry>
        <sphere radius="0.0097" />
      </geometry>
    </collision>
    <collision>
      <origin rpy="0 0 0" xyz="0 0 0.00792" />
      <geometry>
        <sphere radius="0.00952" />
      </geometry>
    </collision>
    <collision>
      <origin rpy="0 0 0" xyz="0 0 -0.00792" />
      <geometry>
        <sphere radius="0.00952" />
      </geometry>
    </collision>
    <collision>
      <origin rpy="0 0 0" xyz="0 0 0.01584" />
      <geometry>
        <sphere radius="0.008985" />
      </geometry>
    </collision>
    <collision>
      <origin rpy="0 0 0" xyz="0 0 -0.01584" />
      <geometry>
        <sphere radius="0.008985" />
      </geometry>
    </collision>
  </link>
  <joint name="front_left_roller_8_joint" type="continuous">
    <origin rpy="0.504844208102444 -0.6016498987064662 0" xyz="-0.024940159255837736 0.02972252439301634 0" />
    <parent link="front_left_mecanum_link" />
    <child link="front_left_roller_8" />
    <axis xyz="0.0 0.0 1.0" />
  </joint>
  <link name="rear_right_mecanum_link">
    <inertial>
      <origin rpy="0 1.5707963267948966 0" xyz="0 0 0" />
      <mass value="0.136" />
      <inertia ixx="7.117696e-05" ixy="0.0" ixz="0.0" iyy="7.117696e-05" iyz="0.0" izz="0.00010236992" />
    </inertial>
    <visual>
      <origin rpy="0 0 0" xyz="0 0 0" />
      <geometry>
        <mesh filename="package://robot_description/meshes/mec_hub_2.stl" scale="0.001 0.001 0.001" />
      </geometry>
      <material name="silver" />
    </visual>
    <collision>
      <origin rpy="0 0 0" xyz="0 0 0" />
      <geometry>
        <cylinder length="0.042" radius="0.0388" />
      </geometry>
    </collision>
  </link>
  <joint name="rear_right_mecanum_joint" type="continuous">
    <origin rpy="0 -1.5707963267948966 0" xyz="0.108 -0.145 -0.121" />
    <parent link="chassis_link" />
    <child link="rear_right_mecanum_link" />
    <axis xyz="0.0 0.0 1.0" />
  </joint>
  <link name="rear_right_roller_0">
    <visual>
      <origin rpy="0 0 0" xyz="0 0 0" />
      <geometry>
        <mesh filename="package://robot_description/meshes/roller.stl" scale="0.001 0.001 0.001" />
      </geometry>
      <material name="silver" />
    </visual>
    <collision>
      <origin rpy="0 0 0" xyz="0 0 0" />
      <geometry>
        <sphere radius="0.0097" />
      </geometry>
    </collision>
    <collision>
      <origin rpy="0 0 0" xyz="0 0 0.00792" />
      <geometry>
        <sphere radius="0.00952" />
      </geometry>
    </collision>
    <collision>
      <origin rpy="0 0 0" xyz="0 0 -0.00792" />
      <geometry>
        <sphere radius="0.00952" />
      </geometry>
    </collision>
    <collision>
      <origin rpy="0 0 0" xyz="0 0 0.01584" />
      <geometry>
        <sphere radius="0.008985" />
      </geometry>
    </collision>
    <collision>
      <origin rpy="0 0 0" xyz="0 0 -0.01584" />
      <geometry>
        <sphere radius="0.008985" />
      </geometry>
    </collision>
  </link>
  <joint name="rear_right_roller_0_joint" type="continuous">
    <origin rpy="-0.0 -0.7853981633974483 0" xyz="0.0 0.0388 0" />
    <parent link="rear_right_mecanum_link" />
    <child link="rear_right_roller_0" />
    <axis xyz="0.0 0.0 1.0" />
  </joint>
  <link name="rear_right_roller_1">
    <visual>
      <origin rpy="0 0 0" xyz="0 0 0" />
      <geometry>
        <mesh filename="package://robot_description/meshes/roller.stl" scale="0.001 0.001 0.001" />
      </geometry>
      <material name="silver" />
    </visual>
    <collision>
      <origin rpy="0 0 0" xyz="0 0 0" />
      <geometry>
        <sphere radius="0.0097" />
      </geometry>
    </collision>
    <collision>
      <origin rpy="0 0 0" xyz="0 0 0.00792" />
      <geometry>
        <sphere radius="0.00952" />
      </geometry>
    </collision>
    <collision>
      <origin rpy="0 0 0" xyz="0 0 -0.00792" />
      <geometry>
        <sphere radius="0.00952" />
      </geometry>
    </collision>
    <collision>
      <origin rpy="0 0 0" xyz="0 0 0.01584" />
      <geometry>
        <sphere radius="0.008985" />
      </geometry>
    </collision>
    <collision>
      <origin rpy="0 0 0" xyz="0 0 -0.01584" />
      <geometry>
        <sphere radius="0.008985" />
      </geometry>
    </collision>
  </link>
  <joint name="rear_right_roller_1_joint" type="continuous">
    <origin rpy="-0.5048442081024438 -0.6016498987064663 0" xyz="0.024940159255837722 0.02972252439301635 0" />
    <parent link="rear_right_mecanum_link" />
    <child link="rear_right_roller_1" />
    <axis xyz="0.0 0.0 1.0" />
  </joint>
  <link name="rear_right_roller_2">
    <visual>
      <origin rpy="0 0 0" xyz="0 0 0" />
      <geometry>
        <mesh filename="package://robot_description/meshes/roller.stl" scale="0.001 0.001 0.001" />
      </geometry>
      <material name="silver" />
    </visual>
    <collision>
      <origin rpy="0 0 0" xyz="0 0 0" />
      <geometry>
        <sphere radius="0.0097" />
      </geometry>
    </collision>
    <collision>
      <origin rpy="0 0 0" xyz="0 0 0.00792" />
      <geometry>
        <sphere radius="0.00952" />
      </geometry>
    </collision>
    <collision>
      <origin rpy="0 0 0" xyz="0 0 -0.00792" />
      <geometry>
        <sphere radius="0.00952" />
      </geometry>
    </collision>
    <collision>
      <origin rpy="0 0 0" xyz="0 0 0.01584" />
      <geometry>
        <sphere radius="0.008985" />
      </geometry>
    </collision>
    <collision>
      <origin rpy="0 0 0" xyz="0 0 -0.01584" />
      <geometry>
        <sphere radius="0.008985" />
      </geometry>
    </collision>
  </link>
  <joint name="rear_right_roller_2_joint" type="continuous">
    <origin rpy="-0.7734662005153561 -0.13638295981692095 0" xyz="0.038210540816873674 0.0067375492934769006 0" />
    <parent link="rear_right_mecanum_link" />
    <child link="rear_right_roller_2" />
    <axis xyz="0.0 0.0 1.0" />
  </joint>
  <link name="rear_right_roller_3">
    <visual>
      <origin rpy="0 0 0" xyz="0 0 0" />
      <geometry>
        <mesh filename="package://robot_description/meshes/roller.stl" scale="0.001 0.001 0.001" />
      </geometry>
      <material name="silver" />
    </visual>
    <collision>
      <origin rpy="0 0 0" xyz="0 0 0" />
      <geometry>
        <sphere radius="0.0097" />
      </geometry>
    </collision>
    <collision>
      <origin rpy="0 0 0" xyz="0 0 0.00792" />
      <geometry>
        <sphere radius="0.00952" />
      </geometry>
    </collision>
    <collision>
      <origin rpy="0 0 0" xyz="0 0 -0.00792" />
      <geometry>
        <sphere radius="0.00952" />
      </geometry>
    </collision>
    <collision>
      <origin rpy="0 0 0" xyz="0 0 0.01584" />
      <geometry>
        <sphere radius="0.008985" />
      </geometry>
    </collision>
    <collision>
      <origin rpy="0 0 0" xyz="0 0 -0.01584" />
      <geometry>
        <sphere radius="0.008985" />
      </geometry>
    </collision>
  </link>
  <joint name="rear_right_roller_3_joint" type="continuous">
    <origin rpy="-0.6801747615878317 0.392699081698724 0" xyz="0.03360178566683622 -0.019399999999999994 0" />
    <parent link="rear_right_mecanum_link" />
    <child link="rear_right_roller_3" />
    <axis xyz="0.0 0.0 1.0" />
  </joint>
  <link name="rear_right_roller_4">
    <visual>
      <origin rpy="0 0 0" xyz="0 0 0" />
      <geometry>
        <mesh filename="package://robot_description/meshes/roller.stl" scale="0.001 0.001 0.001" />
      </geometry>
      <material name="silver" />
    </visual>
    <collision>
      <origin rpy="0 0 0" xyz="0 0 0" />
      <geometry>
        <sphere radius="0.0097" />
      </geometry>
    </collision>
    <collision>
      <origin rpy="0 0 0" xyz="0 0 0.00792" />
      <geometry>
        <sphere radius="0.00952" />
      </geometry>
    </collision>
    <collision>
      <origin rpy="0 0 0" xyz="0 0 -0.00792" />
      <geometry>
        <sphere radius="0.00952" />
      </geometry>
    </collision>
    <collision>
      <origin rpy="0 0 0" xyz="0 0 0.01584" />
      <geometry>
        <sphere radius="0.008985" />
      </geometry>
    </collision>
    <collision>
      <origin rpy="0 0 0" xyz="0 0 -0.01584" />
      <geometry>
        <sphere radius="0.008985" />
      </geometry>
    </collision>
  </link>
  <joint name="rear_right_roller_4_joint" type="continuous">
    <origin rpy="-0.26862199241291235 0.7380328585233872 0" xyz="0.013270381561035953 -0.03646007368649325 0" />
    <parent link="rear_right_mecanum_link" />
    <child link="rear_right_roller_4" />
    <axis xyz="0.0 0.0 1.0" />
  </joint>
  <link name="rear_right_roller_5">
    <visual>
      <origin rpy="0 0 0" xyz="0 0 0" />
      <geometry>
        <mesh filename="package://robot_description/meshes/roller.stl" scale="0.001 0.001 0.001" />
      </geometry>
      <material name="silver" />
    </visual>
    <collision>
      <origin rpy="0 0 0" xyz="0 0 0" />
      <geometry>
        <sphere radius="0.0097" />
      </geometry>
    </collision>
    <collision>
      <origin rpy="0 0 0" xyz="0 0 0.00792" />
      <geometry>
        <sphere radius="0.00952" />
      </geometry>
    </collision>
    <collision>
      <origin rpy="0 0 0" xyz="0 0 -0.00792" />
      <geometry>
        <sphere radius="0.00952" />
      </geometry>
    </collision>
    <collision>
      <origin rpy="0 0 0" xyz="0 0 0.01584" />
      <geometry>
        <sphere radius="0.008985" />
      </geometry>
    </collision>
    <collision>
      <origin rpy="0 0 0" xyz="0 0 -0.01584" />
      <geometry>
        <sphere radius="0.008985" />
      </geometry>
    </collision>
  </link>
  <joint name="rear_right_roller_5_joint" type="continuous">
    <origin rpy="0.2686219924129122 0.7380328585233873 0" xyz="-0.013270381561035945 -0.03646007368649325 0" />
    <parent link="rear_right_mecanum_link" />
    <child link="rear_right_roller_5" />
    <axis xyz="0.0 0.0 1.0" />
  </joint>
  <link name="rear_right_roller_6">
    <visual>
      <origin rpy="0 0 0" xyz="0 0 0" />
      <geometry>
        <mesh filename="package://robot_description/meshes/roller.stl" scale="0.001 0.001 0.001" />
      </geometry>
      <material name="silver" />
    </visual>
    <collision>
      <origin rpy="0 0 0" xyz="0 0 0" />
      <geometry>
        <sphere radius="0.0097" />
      </geometry>
    </collision>
    <collision>
      <origin rpy="0 0 0" xyz="0 0 0.00792" />
      <geometry>
        <sphere radius="0.00952" />
      </geometry>
    </collision>
    <collision>
      <origin rpy="0 0 0" xyz="0 0 -0.00792" />
      <geometry>
        <sphere radius="0.00952" />
      </geometry>
    </collision>
    <collision>
      <origin rpy="0 0 0" xyz="0 0 0.01584" />
      <geometry>
        <sphere radius="0.008985" />
      </geometry>
    </collision>
    <collision>
      <origin rpy="0 0 0" xyz="0 0 -0.01584" />
      <geometry>
        <sphere radius="0.008985" />
      </geometry>
    </collision>
  </link>
  <joint name="rear_right_roller_6_joint" type="continuous">
    <origin rpy="0.6801747615878314 0.3926990816987245 0" xyz="-0.03360178566683621 -0.019400000000000018 0" />
    <parent link="rear_right_mecanum_link" />
    <child link="rear_right_roller_6" />
    <axis xyz="0.0 0.0 1.0" />
  </joint>
  <link name="rear_right_roller_7">
    <visual>
      <origin rpy="0 0 0" xyz="0 0 0" />
      <geometry>
        <mesh filename="package://robot_description/meshes/roller.stl" scale="0.001 0.001 0.001" />
      </geometry>
      <material name="silver" />
    </visual>
    <collision>
      <origin rpy="0 0 0" xyz="0 0 0" />
      <geometry>
        <sphere radius="0.0097" />
      </geometry>
    </collision>
    <collision>
      <origin rpy="0 0 0" xyz="0 0 0.00792" />
      <geometry>
        <sphere radius="0.00952" />
      </geometry>
    </collision>
    <collision>
      <origin rpy="0 0 0" xyz="0 0 -0.00792" />
      <geometry>
        <sphere radius="0.00952" />
      </geometry>
    </collision>
    <collision>
      <origin rpy="0 0 0" xyz="0 0 0.01584" />
      <geometry>
        <sphere radius="0.008985" />
      </geometry>
    </collision>
    <collision>
      <origin rpy="0 0 0" xyz="0 0 -0.01584" />
      <geometry>
        <sphere radius="0.008985" />
      </geometry>
    </collision>
  </link>
  <joint name="rear_right_roller_7_joint" type="continuous">
    <origin rpy="0.7734662005153561 -0.13638295981692058 0" xyz="-0.038210540816873674 0.006737549293476883 0" />
    <parent link="rear_right_mecanum_link" />
    <child link="rear_right_roller_7" />
    <axis xyz="0.0 0.0 1.0" />
  </joint>
  <link name="rear_right_roller_8">
    <visual>
      <origin rpy="0 0 0" xyz="0 0 0" />
      <geometry>
        <mesh filename="package://robot_description/meshes/roller.stl" scale="0.001 0.001 0.001" />
      </geometry>
      <material name="silver" />
    </visual>
    <collision>
      <origin rpy="0 0 0" xyz="0 0 0" />
      <geometry>
        <sphere radius="0.0097" />
      </geometry>
    </collision>
    <collision>
      <origin rpy="0 0 0" xyz="0 0 0.00792" />
      <geometry>
        <sphere radius="0.00952" />
      </geometry>
    </collision>
    <collision>
      <origin rpy="0 0 0" xyz="0 0 -0.00792" />
      <geometry>
        <sphere radius="0.00952" />
      </geometry>
    </collision>
    <collision>
      <origin rpy="0 0 0" xyz="0 0 0.01584" />
      <geometry>
        <sphere radius="0.008985" />
      </geometry>
    </collision>
    <collision>
      <origin rpy="0 0 0" xyz="0 0 -0.01584" />
      <geometry>
        <sphere radius="0.008985" />
      </geometry>
    </collision>
  </link>
  <joint name="rear_right_roller_8_joint" type="continuous">
    <origin rpy="0.504844208102444 -0.6016498987064662 0" xyz="-0.024940159255837736 0.02972252439301634 0" />
    <parent link="rear_right_mecanum_link" />
    <child link="rear_right_roller_8" />
    <axis xyz="0.0 0.0 1.0" />
  </joint>
</robot>
